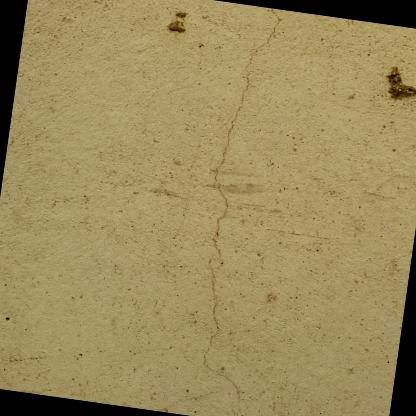crack: (199, 6, 284, 416)
